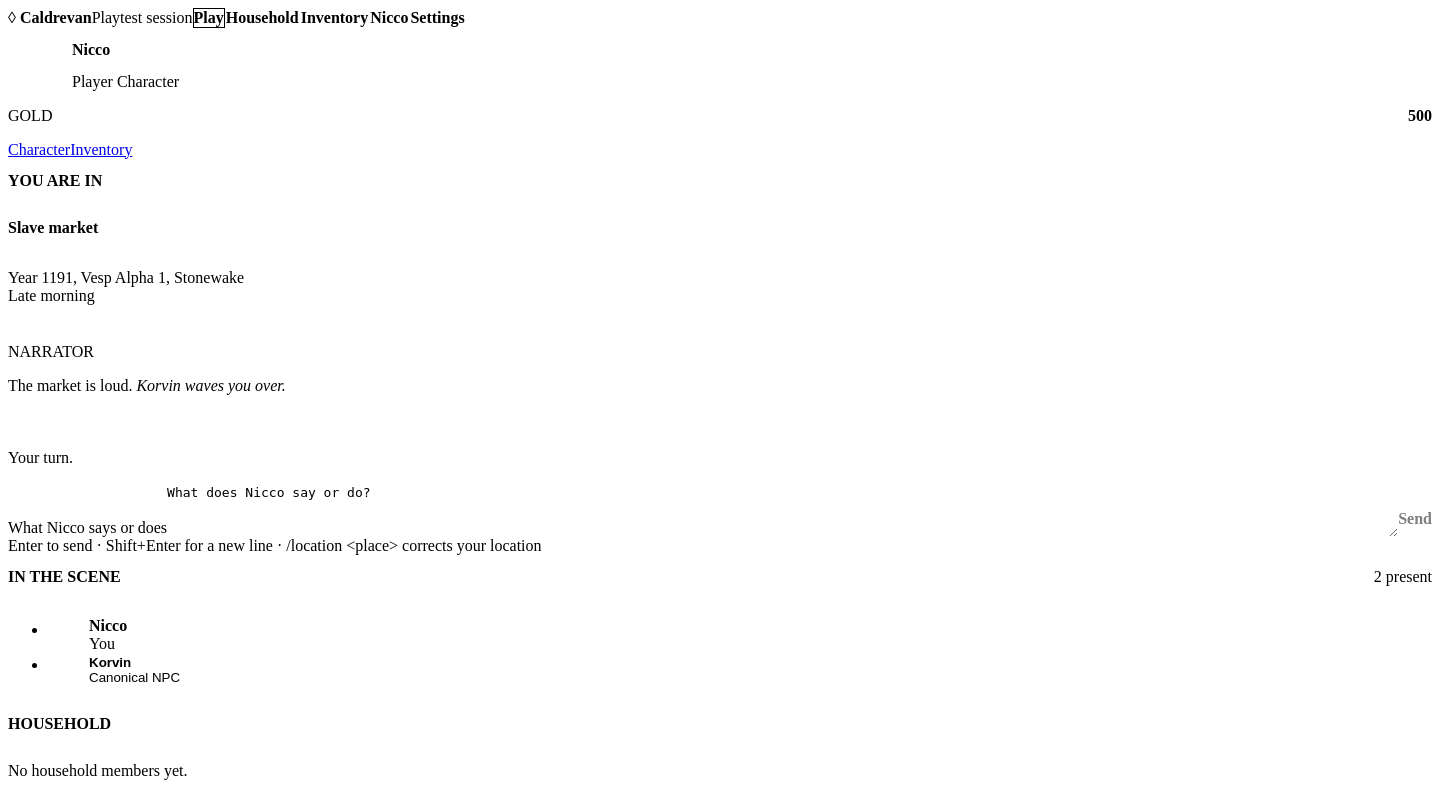
/location correction › a refused correction shows the server's sentence and its candidates, leaves the location alone and keeps the text
In the text box labelled "What Nicco says or does": (783, 511) [167,485,1398,537], type "/location nowhere"
Then press Enter
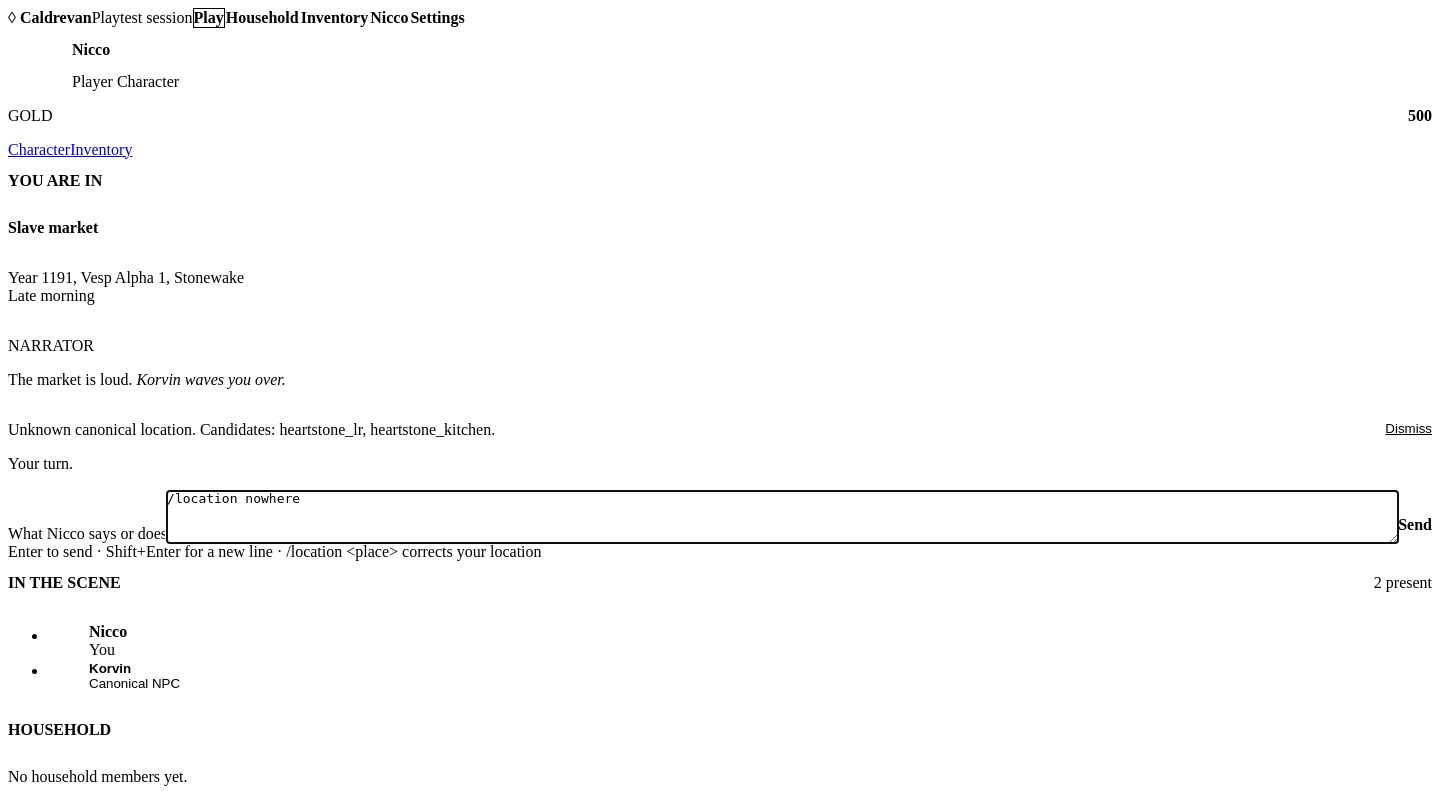
Expected: the text "Slave market" is shown, [8,219,98,236]
Expected: the text "Unknown canonical location." shows "Candidates: heartstone_lr, heartstone_kitchen.", [8,421,495,438]
